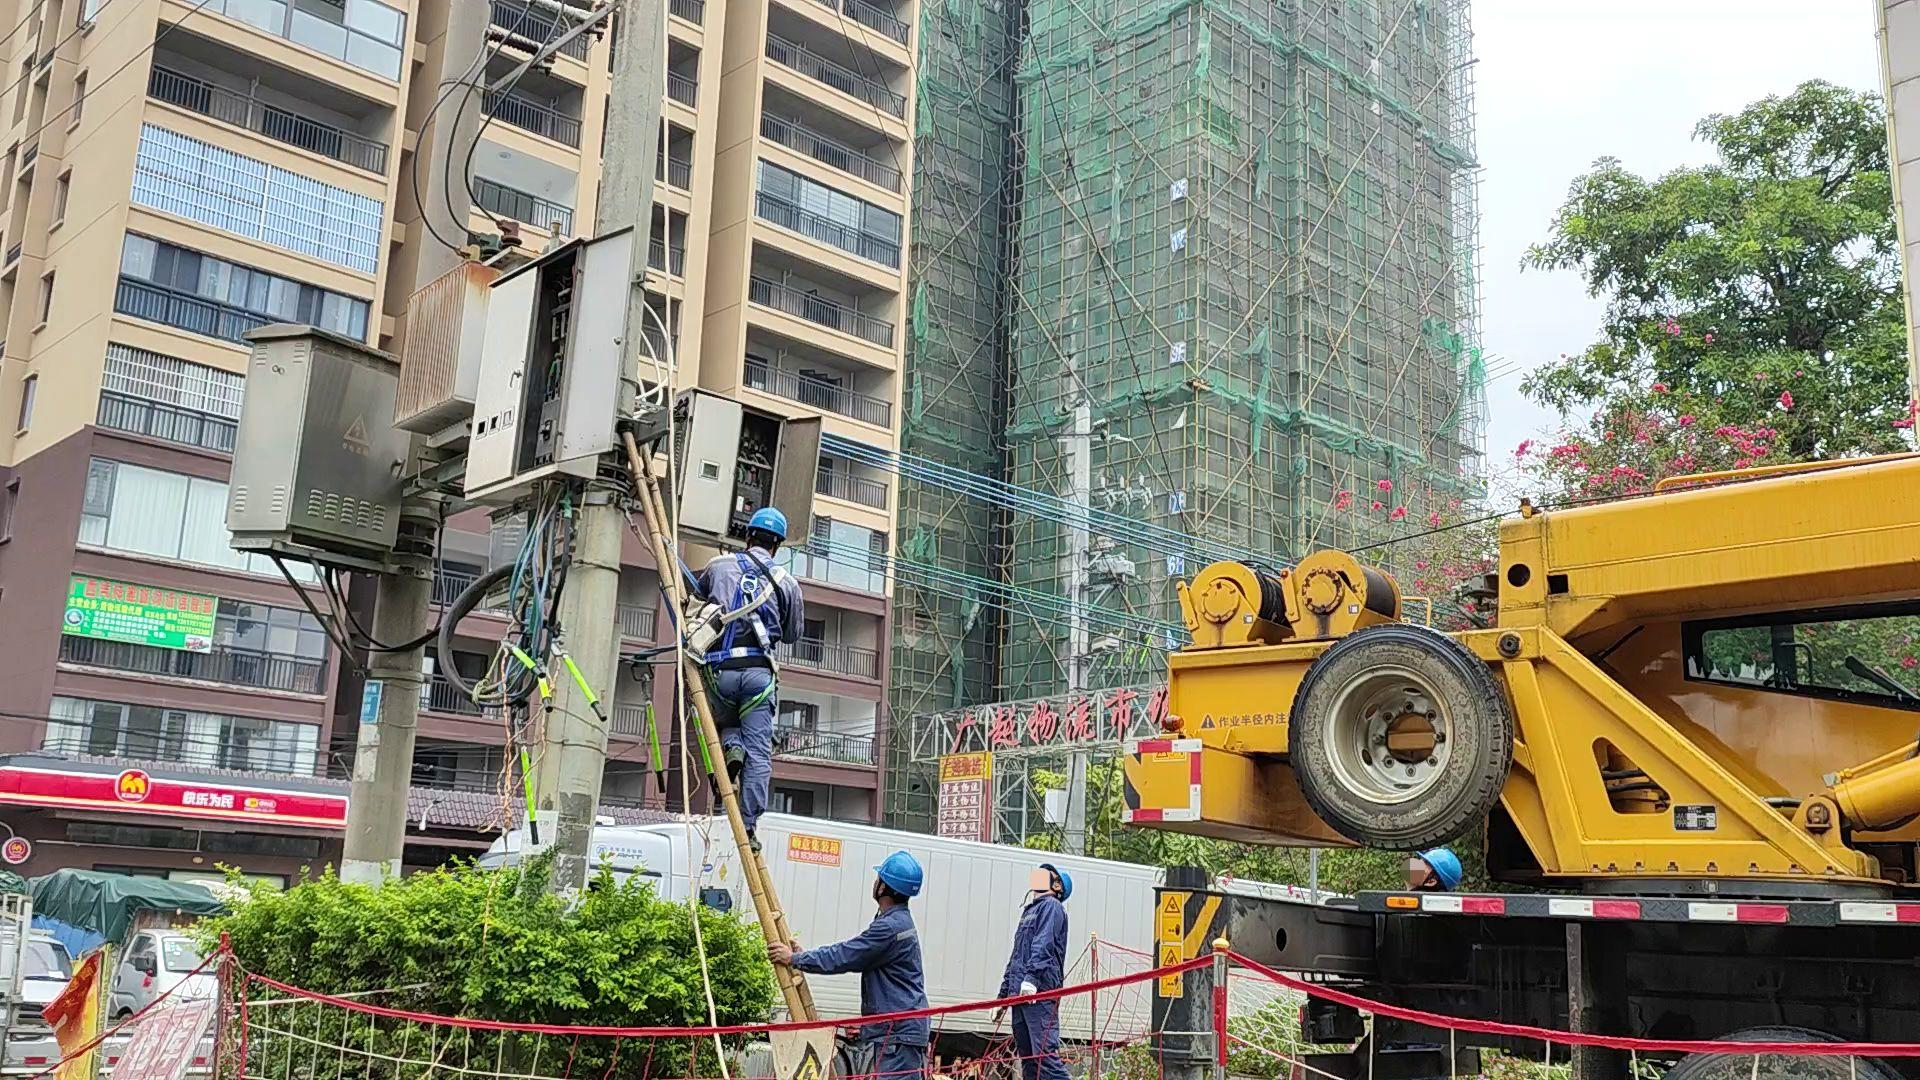halt: (874, 855, 927, 909), (1404, 851, 1465, 897), (745, 508, 790, 553), (1035, 866, 1069, 899)
inear: (1043, 876, 1065, 901)
